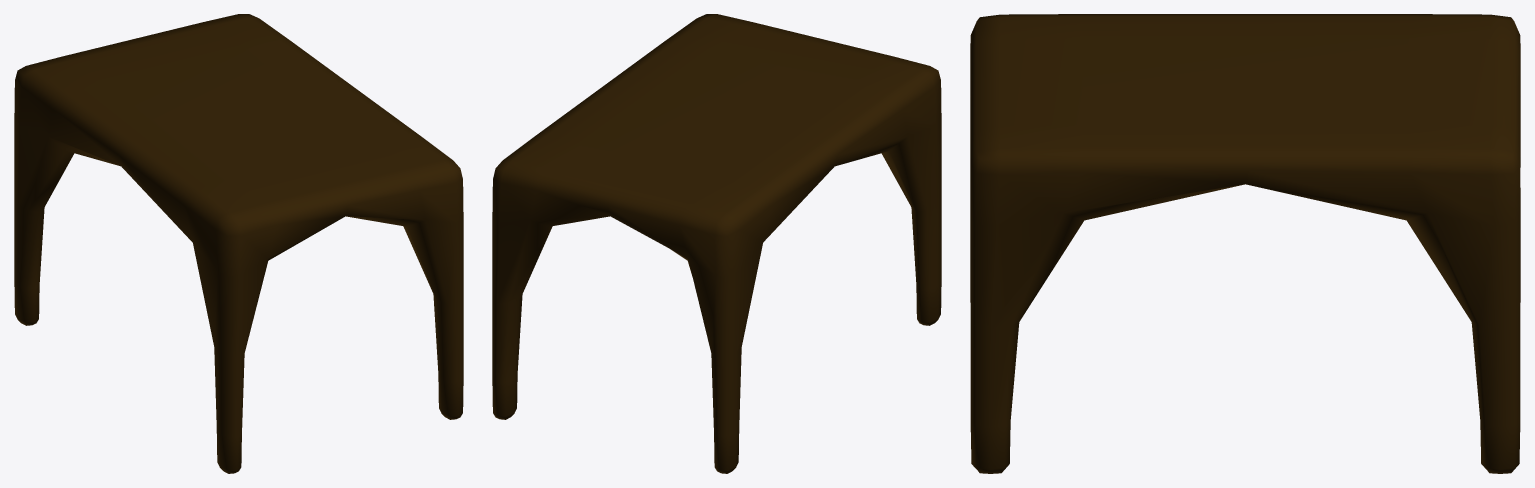
Rendered from table.fbx.
The picture shows the model from 3 angles, left to right: view 1: azimuth 30°, elevation 25°; view 2: azimuth 150°, elevation 25°; view 3: azimuth 270°, elevation 25°; orthographic projection. The views are drawn at different scales.
Visible parts, largest first — view 1: Cube; view 2: Cube; view 3: Cube.
Part boxes in pixels (box(x1,y1,x2,y2)): Cube: box(14, 14, 463, 473); Cube: box(492, 14, 941, 473); Cube: box(970, 14, 1520, 473).
Size of the model in its own units: 199 by 201 by 313.
